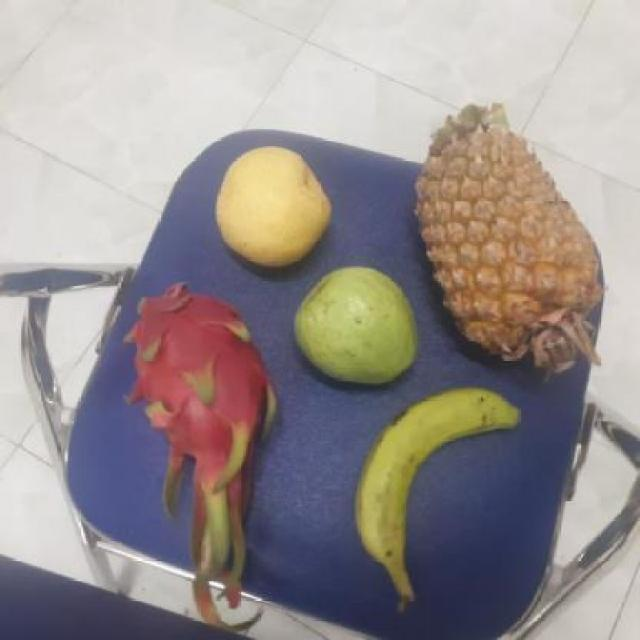banana: (347, 388, 516, 582)
dragon fruit: (119, 288, 279, 488)
guava: (289, 268, 417, 382)
pear: (208, 147, 334, 268)
pineapple: (414, 118, 598, 370)
